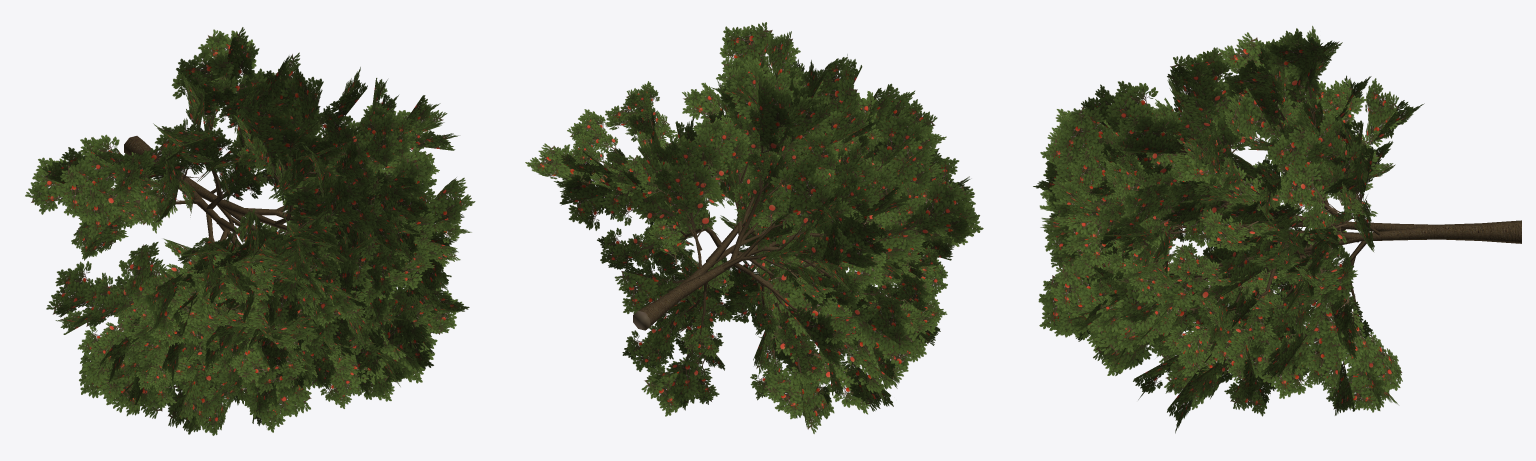
Rendered from AppleTree.glb.
3 views of the same model, side by side, from view 1: azimuth 30°, elevation 25°; view 2: azimuth 150°, elevation 25°; view 3: azimuth 270°, elevation 25° (orthographic). The views are drawn at different scales.
Visible parts, largest first — view 1: Object_5, Object_4; view 2: Object_5, Object_4; view 3: Object_5, Object_4.
Boxes of the visible parts, bbox=[...] form: Object_5: bbox=[25, 27, 475, 435]; Object_4: bbox=[124, 115, 348, 330]; Object_5: bbox=[525, 22, 983, 433]; Object_4: bbox=[609, 130, 893, 355]; Object_5: bbox=[1033, 26, 1424, 433]; Object_4: bbox=[1157, 95, 1521, 352].
Size of the model in its own units: 12.89 by 11.46 by 12.97.
2 materials, 2 textured.
